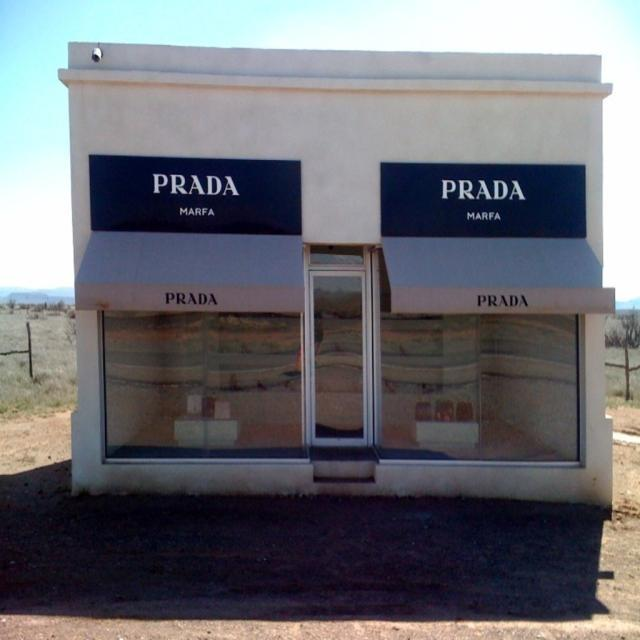door: (306, 245, 377, 456)
